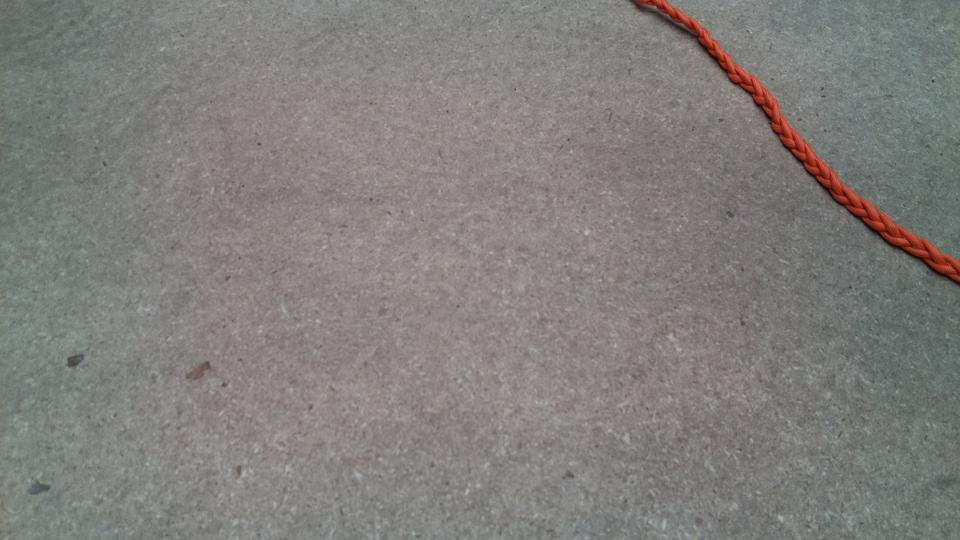rope: (661, 1, 959, 269)
